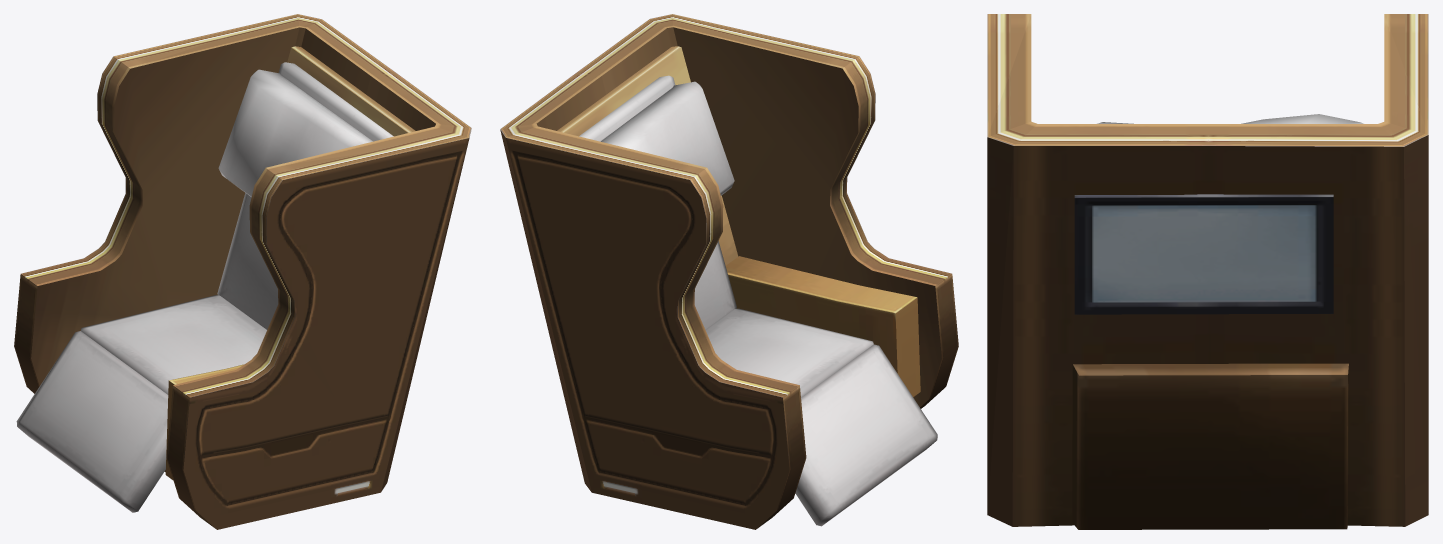
File: my_highlander_01_seat_02.glb
3 renders of one model, left to right at view 1: azimuth 30°, elevation 25°; view 2: azimuth 150°, elevation 25°; view 3: azimuth 270°, elevation 25°, orthographic. The views are drawn at different scales.
Parts seen in each view (by area): view 1: my_highlander_01_seat_02; view 2: my_highlander_01_seat_02; view 3: my_highlander_01_seat_02.
Boxes of the visible parts, bbox=[...] form: my_highlander_01_seat_02: bbox=[14, 14, 471, 529]; my_highlander_01_seat_02: bbox=[500, 14, 958, 529]; my_highlander_01_seat_02: bbox=[987, 14, 1428, 529].
Bounding box in the file's own units: 0.00572 × 0.00578 × 0.00526.
Materials: 1 (1 with a texture image).
